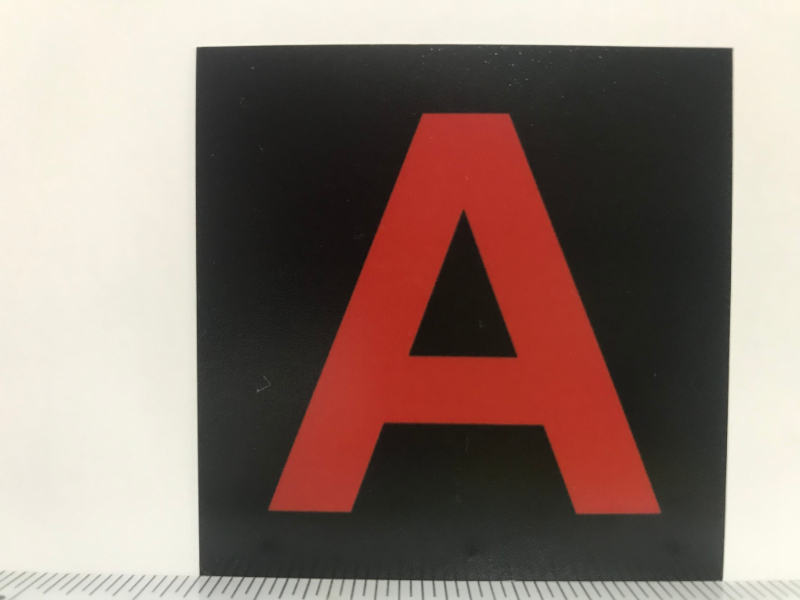A-11: (203, 50, 721, 574)
